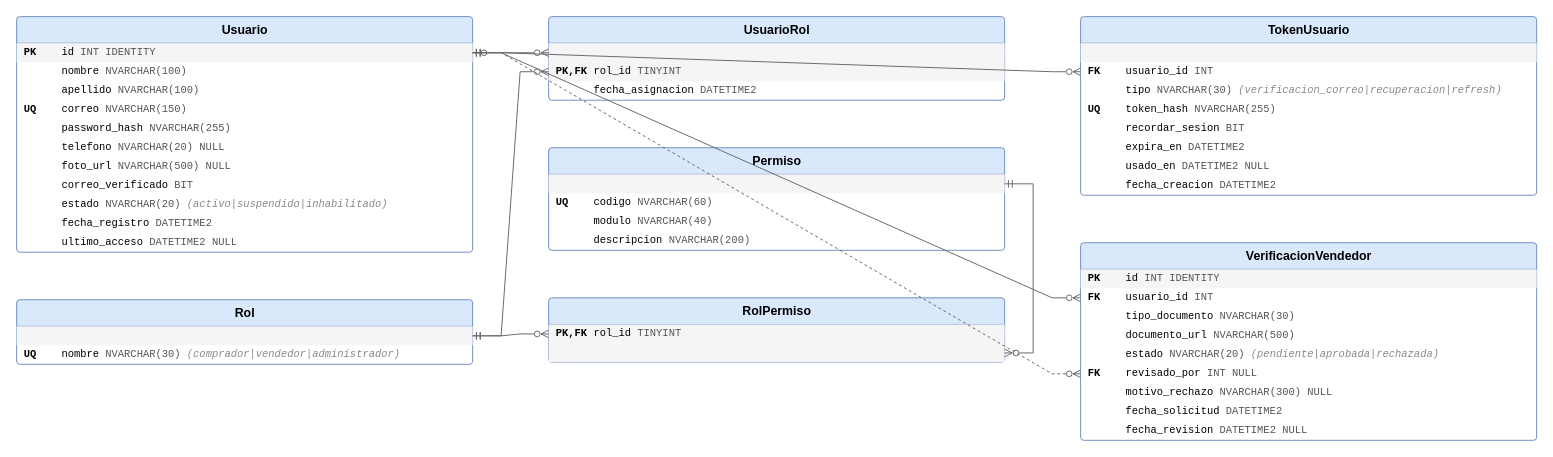
The diagram is 1553 pixels wide and 457 high, and some of its shapes have lost their labels. Each missing label, with the centre of its shape:
"PK id BIGINT IDENTITY" goes at (1308,52).
"PK id SMALLINT" goes at (776,183).
"PK id TINYINT" goes at (244,335).
"PK,FK permiso_id SMALLINT" goes at (776,352).
"PK,FK usuario_id INT" goes at (776,52).
